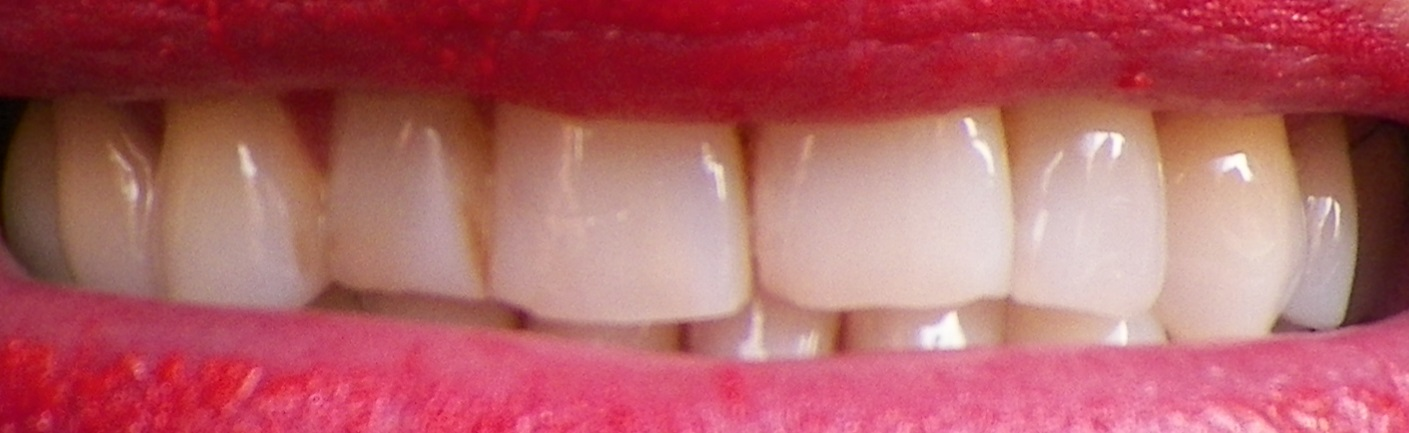boca: (1, 83, 1389, 356)
